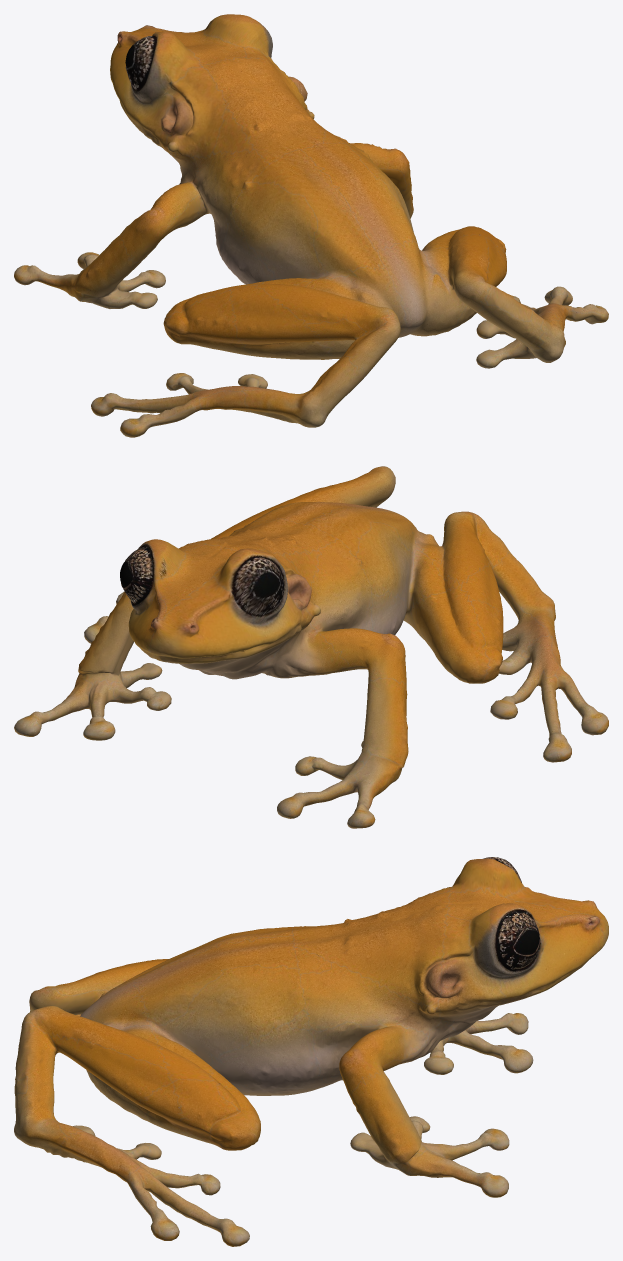
The model's file is rana_de_Lluvia_Pristimantis+spp.fbx.
The picture shows the model from 3 angles, top to bottom: view 1: azimuth 30°, elevation 25°; view 2: azimuth 150°, elevation 25°; view 3: azimuth 270°, elevation 25°; orthographic projection. The views are drawn at different scales.
Parts seen in each view (by area): view 1: tripo_node_114d9151; view 2: tripo_node_114d9151; view 3: tripo_node_114d9151.
Part boxes in pixels (x1,y1,x2,y2): tripo_node_114d9151: (14, 14, 608, 437); tripo_node_114d9151: (14, 466, 608, 828); tripo_node_114d9151: (14, 857, 608, 1246).
Size of the model in its own units: 92.56 by 45.84 by 97.92.
1 material, 1 textured.
